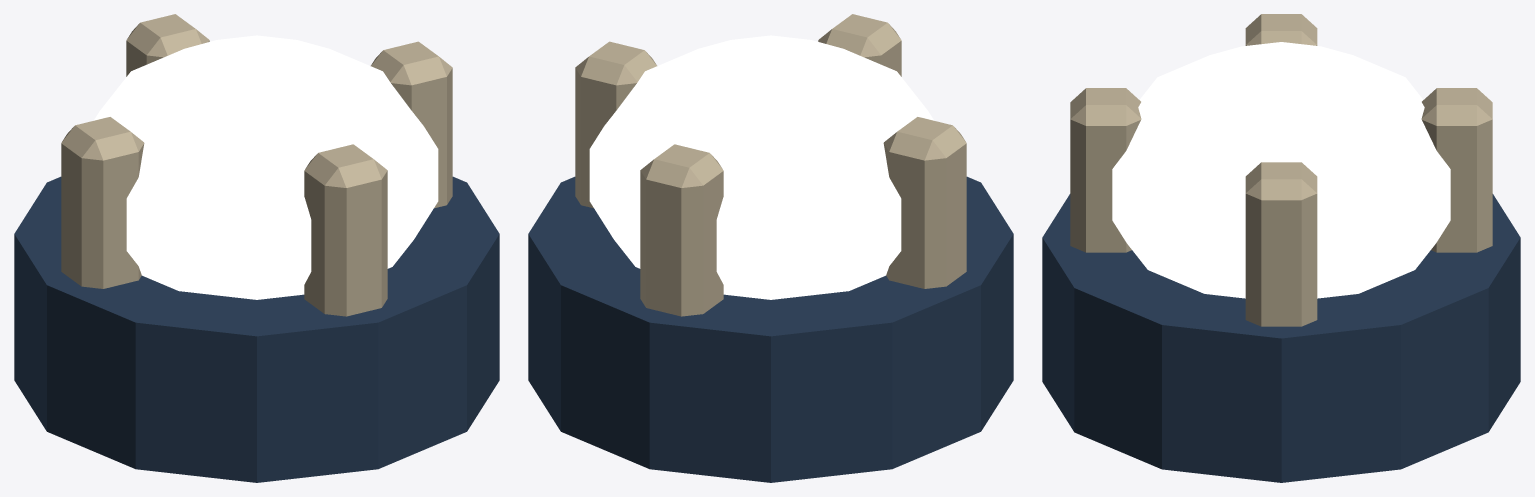
Rendered from fps-shield-generator.lod0.glb.
3 renders of one model, left to right at view 1: azimuth 30°, elevation 25°; view 2: azimuth 150°, elevation 25°; view 3: azimuth 270°, elevation 25°, orthographic.
Parts seen in each view (by area): view 1: fps-shield-generator__body; view 2: fps-shield-generator__body; view 3: fps-shield-generator__body.
Part boxes in pixels (<box>): fps-shield-generator__body: <box>14,14,499,482</box>; fps-shield-generator__body: <box>528,14,1013,482</box>; fps-shield-generator__body: <box>1042,14,1520,482</box>.
Size of the model in its own units: 0.6 by 0.44 by 0.6.
